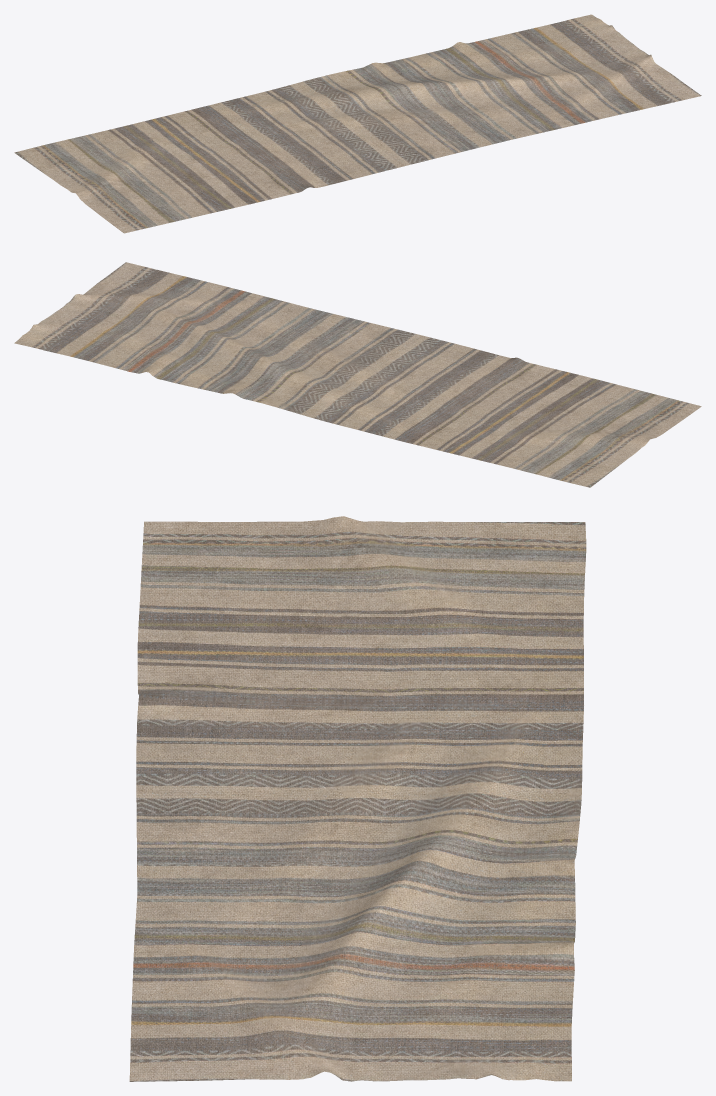
File: SM_Carpet_B1.fbx
3 views of the same model, one above another, from view 1: azimuth 30°, elevation 25°; view 2: azimuth 150°, elevation 25°; view 3: azimuth 270°, elevation 25° (orthographic). The views are drawn at different scales.
Parts seen in each view (by area): view 1: SM_Carpet_B1; view 2: SM_Carpet_B1; view 3: SM_Carpet_B1.
Boxes of the visible parts, left/top/right/bottom form: SM_Carpet_B1: left=14, top=14, right=701, bottom=233; SM_Carpet_B1: left=14, top=262, right=701, bottom=487; SM_Carpet_B1: left=129, top=516, right=586, bottom=1081.
Size of the model in its own units: 286 by 98.18 by 5.03.
Materials: 1 (1 with a texture image).
